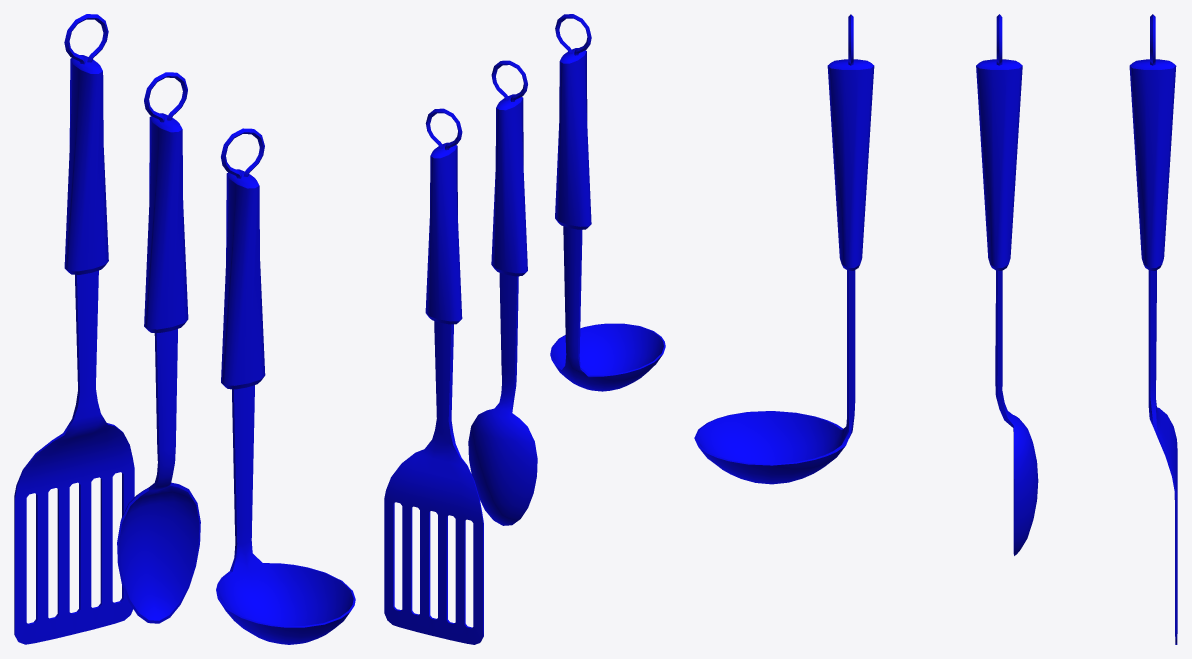
File: xreni.FBX
3 renders of one model, left to right at view 1: azimuth 30°, elevation 25°; view 2: azimuth 150°, elevation 25°; view 3: azimuth 270°, elevation 25°, orthographic. The views are drawn at different scales.
Parts seen in each view (by area): view 1: xren3, xren1, xren2, xren2_c1; view 2: xren3, xren1, xren2, xren2_c1; view 3: xren2, xren1, xren3, xren2_c1.
Part boxes in pixels (bbox=[...]): xren3: bbox=[14, 14, 134, 644]; xren1: bbox=[117, 72, 200, 623]; xren2: bbox=[216, 128, 355, 644]; xren2_c1: bbox=[216, 563, 355, 644]; xren3: bbox=[384, 108, 483, 644]; xren1: bbox=[468, 60, 537, 525]; xren2: bbox=[550, 14, 665, 391]; xren2_c1: bbox=[550, 324, 664, 390]; xren2: bbox=[694, 14, 874, 484]; xren1: bbox=[976, 14, 1038, 555]; xren3: bbox=[1129, 14, 1177, 644]; xren2_c1: bbox=[695, 412, 841, 483].
Bounding box in the file's own units: 0.0566 × 0.2843 × 0.2053.
